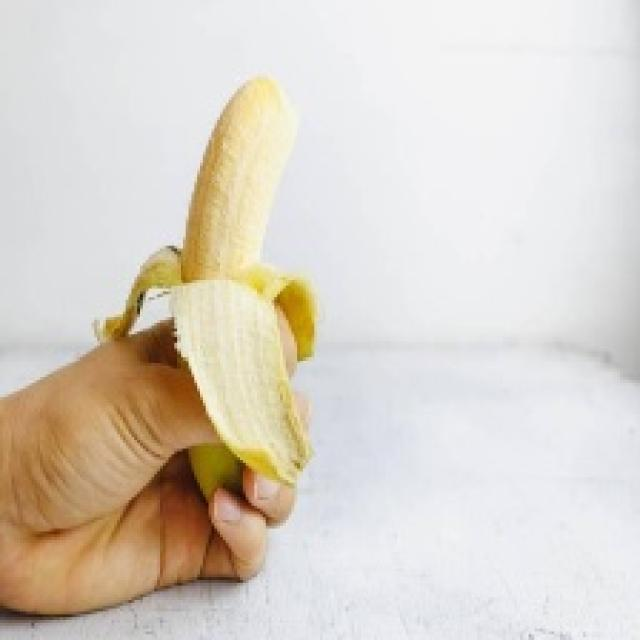Banana: (92, 71, 317, 503)
